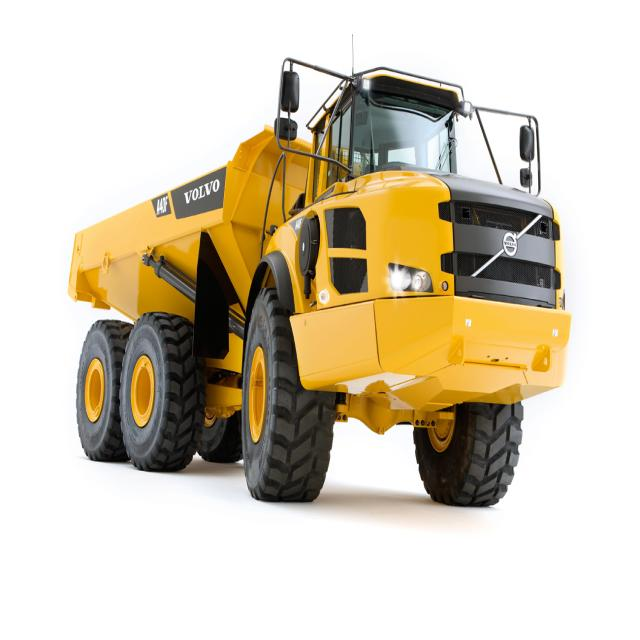dump_truck: (62, 61, 572, 526)
